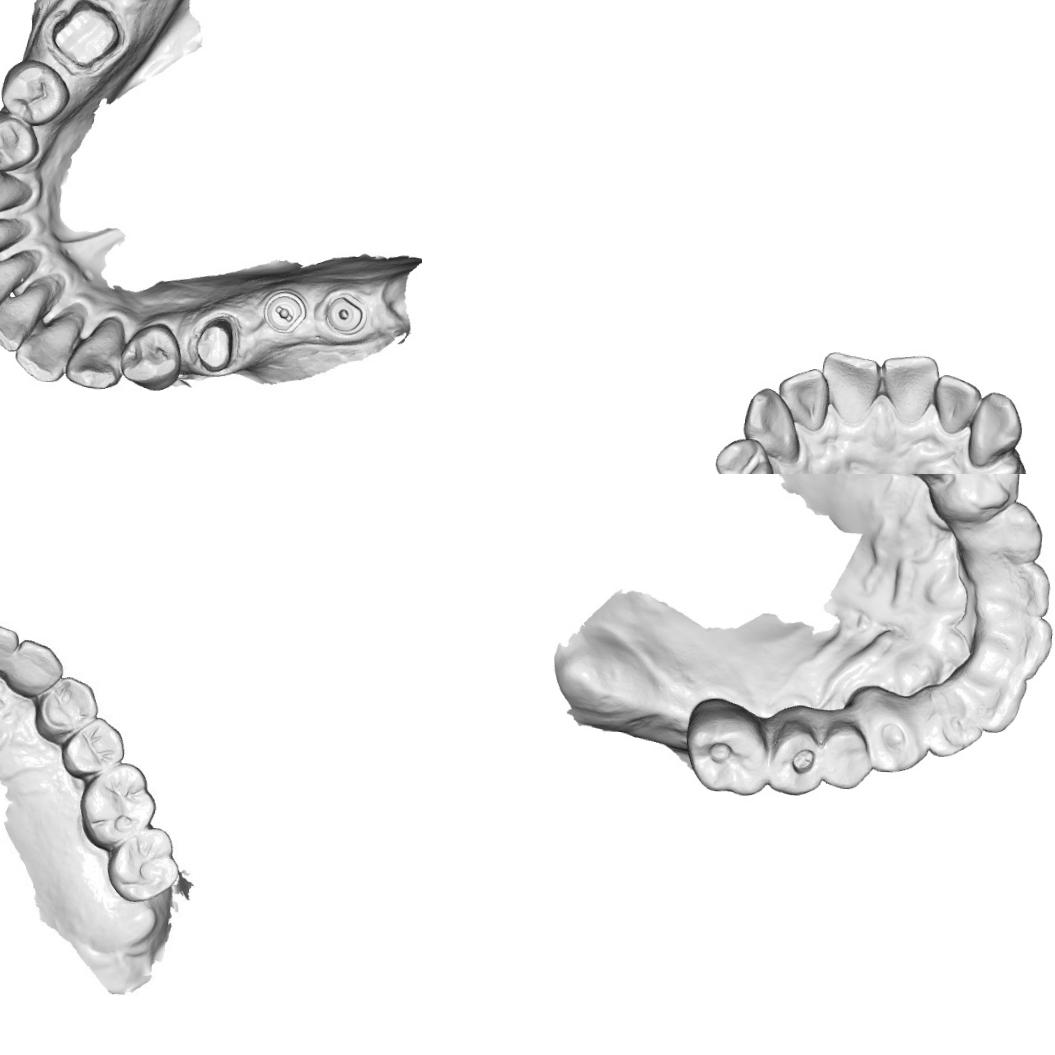canine: (859, 687, 932, 773), (739, 384, 808, 466), (963, 500, 1044, 569), (65, 313, 127, 391), (966, 389, 1024, 471), (9, 639, 64, 694), (0, 164, 32, 223)
crown: (45, 0, 121, 72), (184, 314, 248, 378)
implant: (323, 284, 374, 337)
implant_minus: (264, 288, 304, 333)
incisor: (817, 347, 884, 425), (983, 610, 1052, 682), (960, 666, 1029, 735), (878, 352, 939, 425), (982, 558, 1053, 619), (773, 362, 830, 434), (916, 699, 984, 759), (11, 318, 74, 382), (932, 373, 982, 436), (0, 285, 44, 352), (0, 257, 20, 316), (0, 620, 18, 675)
molar: (680, 694, 772, 796), (81, 763, 156, 844), (104, 829, 182, 900)
premolar: (764, 716, 826, 798), (119, 317, 183, 392), (1, 58, 66, 124), (817, 717, 872, 791), (944, 474, 1026, 521), (64, 718, 124, 775), (40, 678, 96, 730), (712, 434, 778, 474), (0, 114, 40, 172)
